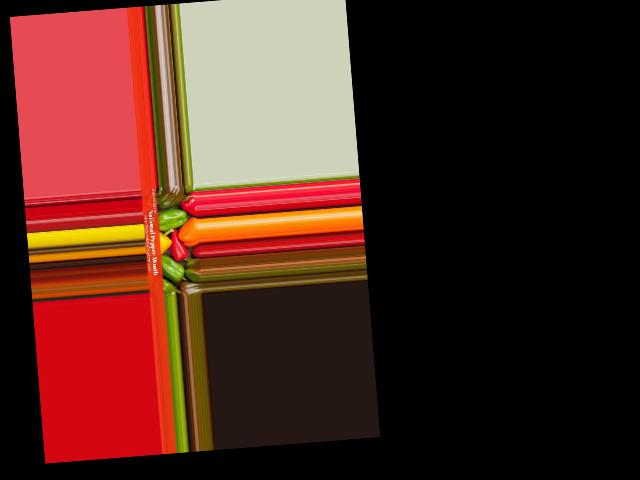bell_pepper: (155, 185, 185, 208)
